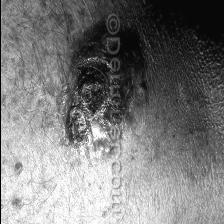Potentially Malignant Skin Tumors: (62, 38, 106, 144), (125, 36, 141, 104)
